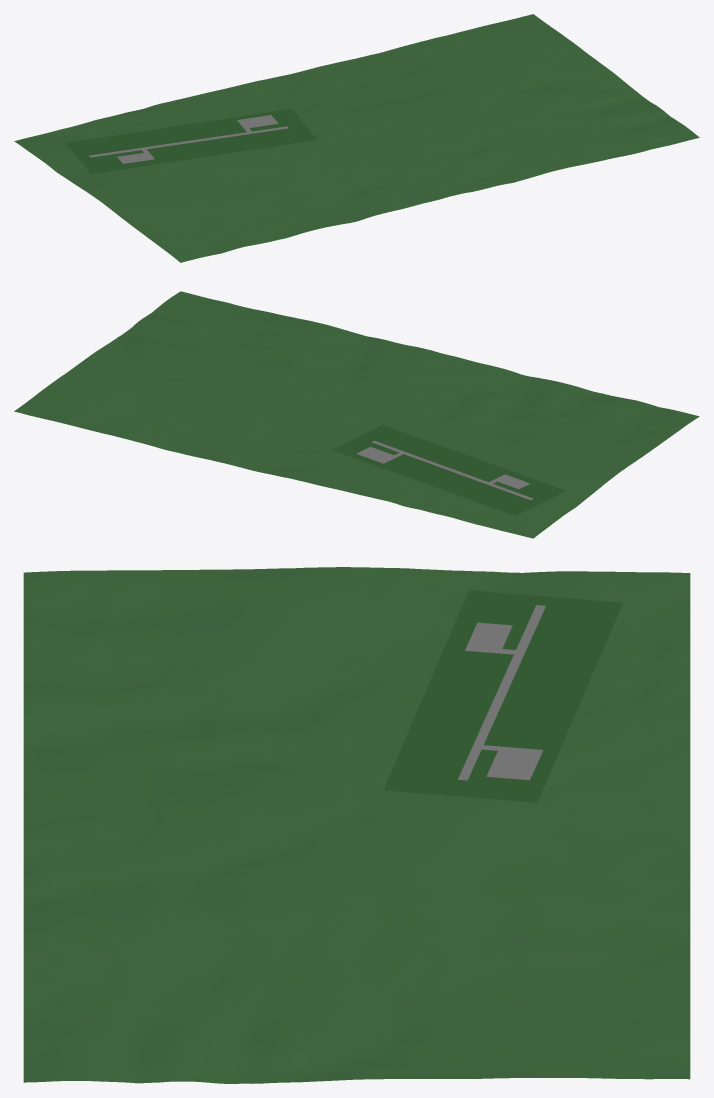
The model's file is FirstTerrain.gltf.
3 views of the same model, one above another, from view 1: azimuth 30°, elevation 25°; view 2: azimuth 150°, elevation 25°; view 3: azimuth 270°, elevation 25° (orthographic). The views are drawn at different scales.
Visible parts, largest first — view 1: EXPORT_GOOGLE_SAT_WM, Airfield; view 2: EXPORT_GOOGLE_SAT_WM, Airfield; view 3: EXPORT_GOOGLE_SAT_WM, Airfield.
Boxes of the visible parts, x1,y1,x2,y2 form: EXPORT_GOOGLE_SAT_WM: [14, 14, 699, 262]; Airfield: [66, 108, 317, 174]; EXPORT_GOOGLE_SAT_WM: [14, 291, 699, 538]; Airfield: [332, 425, 566, 515]; EXPORT_GOOGLE_SAT_WM: [23, 567, 690, 1083]; Airfield: [383, 590, 622, 802].
Size of the model in its own units: 5032 by 46.17 by 2795.
